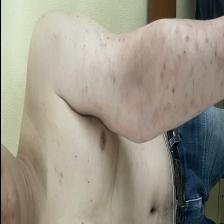DA: (127, 33, 165, 139)
